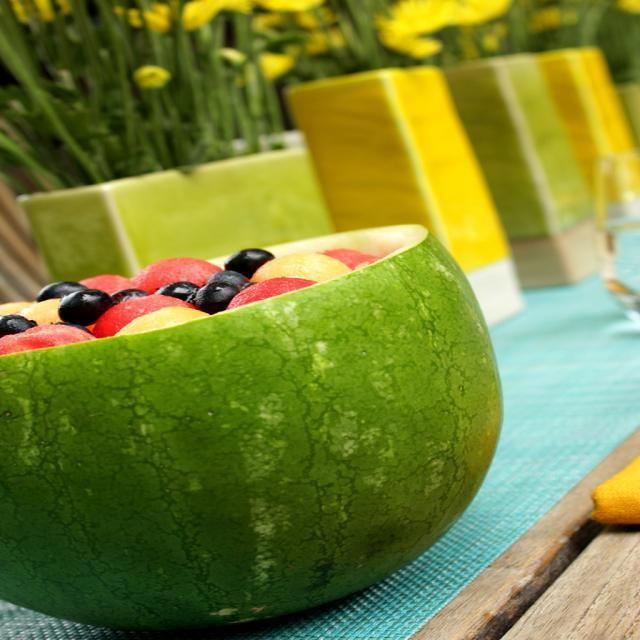Watermelon: (0, 223, 502, 632)
